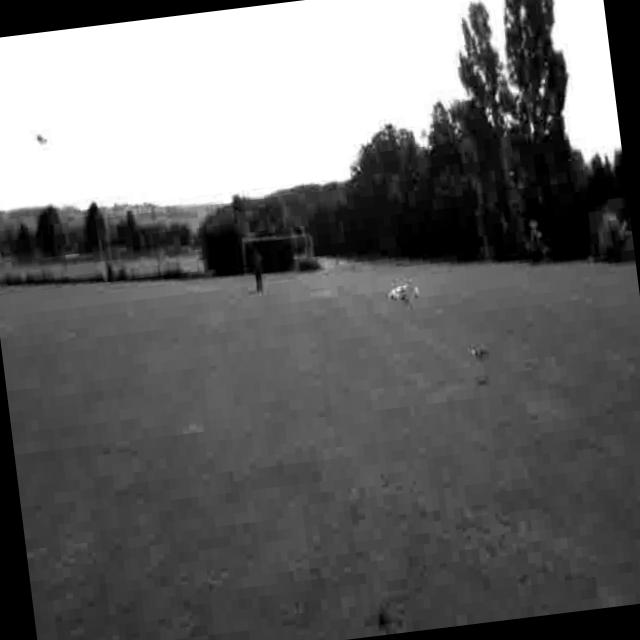drone: (382, 268, 424, 312)
